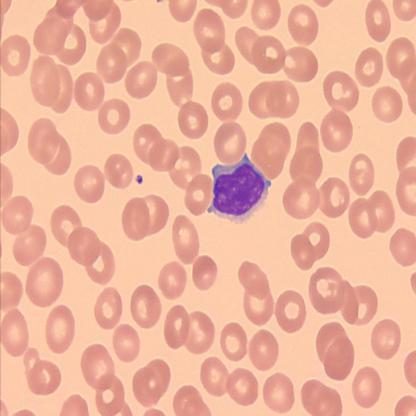Atypical lymphocyte: (206, 151, 272, 225)
